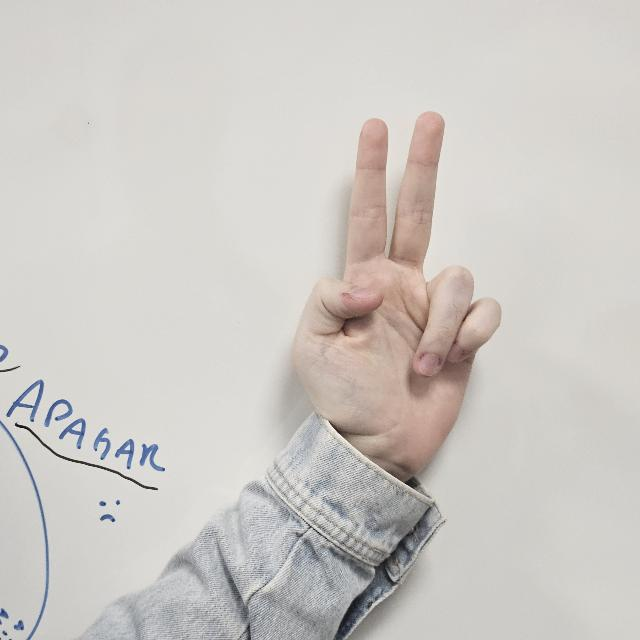Triangulo: (286, 109, 508, 484)
